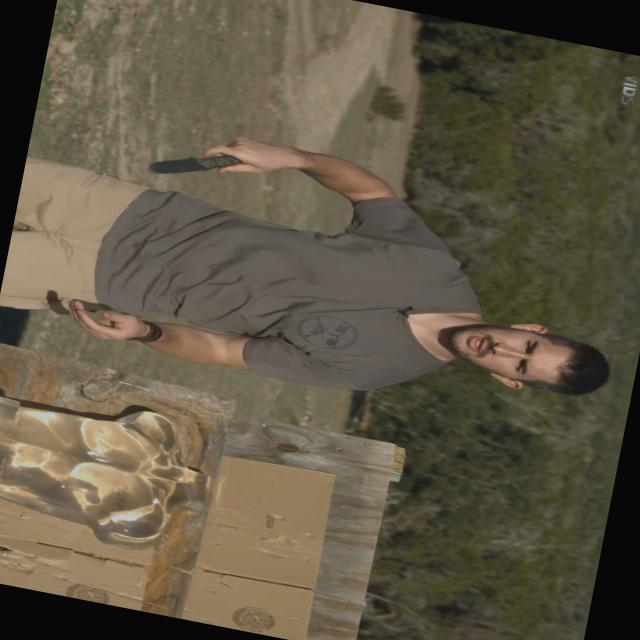knife: (137, 116, 272, 200)
